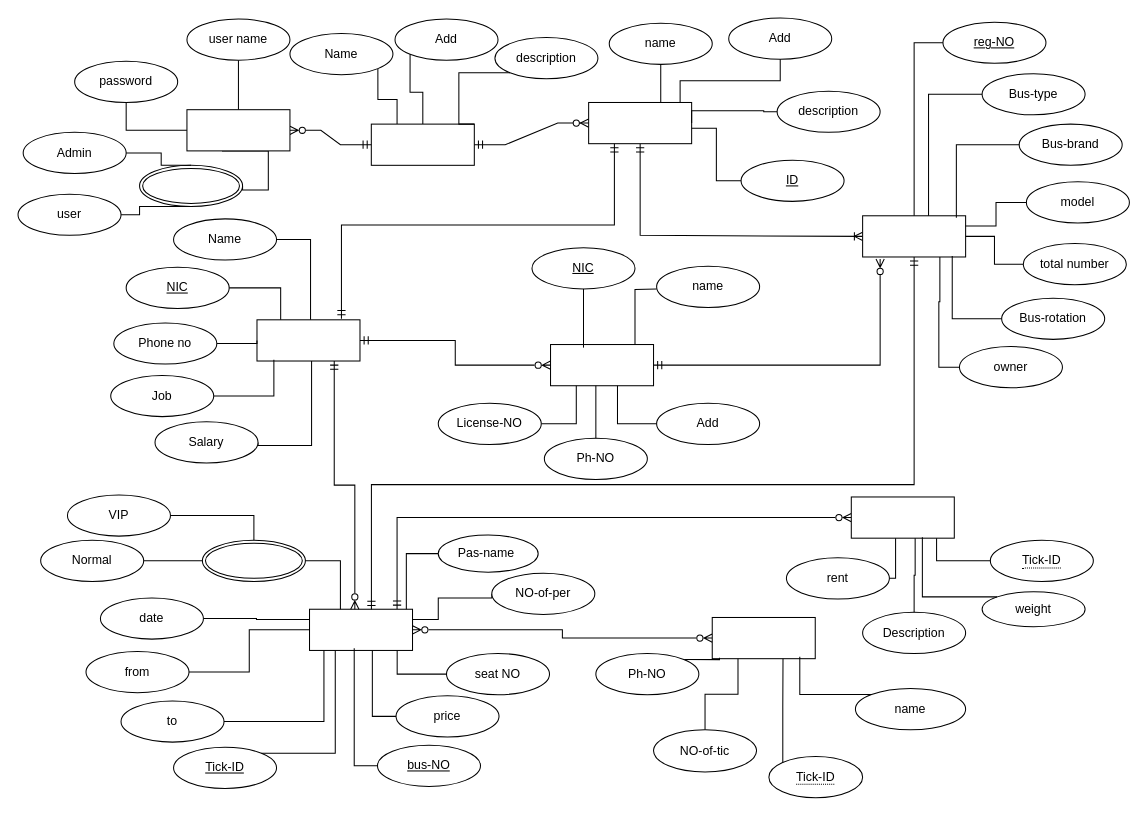
This 1147x816 diagram has some shape labels left out. Each missing label, with the centre of its shape:
"Agency" goes at [640,122].
"Bus" goes at [914,236].
"Company" goes at [422,144].
"Drivers" goes at [602,365].
"Goods" goes at [902,517].
"Passenger" goes at [763,637].
"Staff" goes at [308,340].
"Ticket" goes at [360,629].
"type" goes at [253,560].
"User Login" goes at [238,130].
"user type" goes at [191,185].
